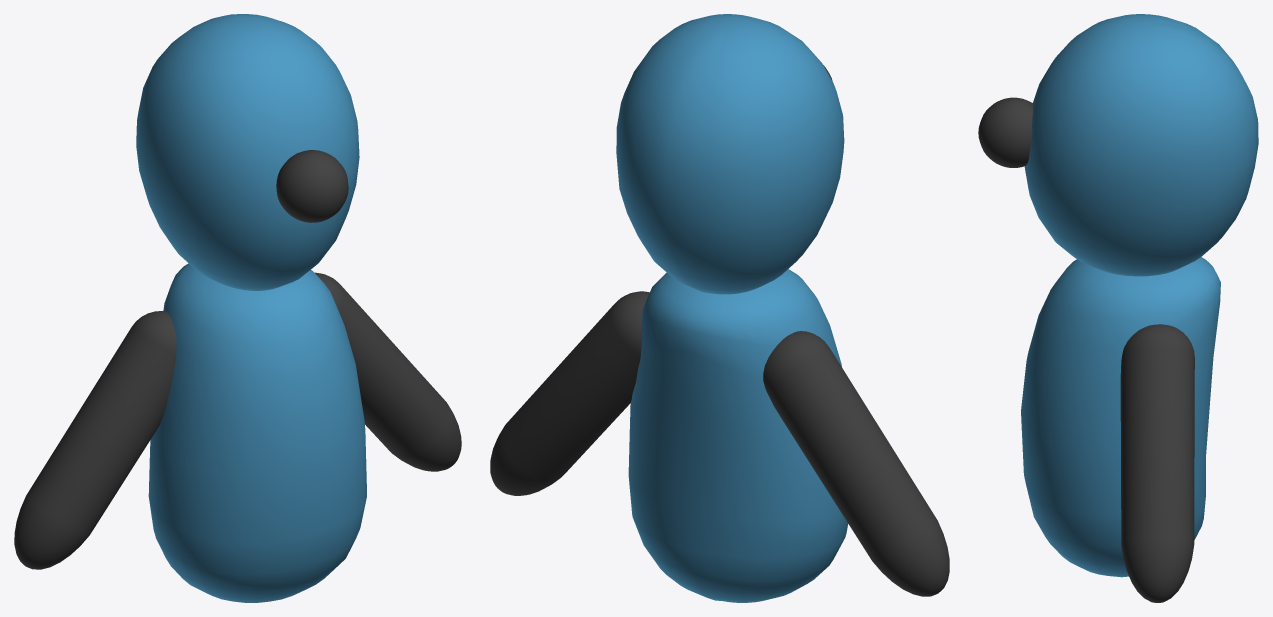
Rendered from SM_Player2BLUE.fbx.
3 renders of one model, left to right at view 1: azimuth 30°, elevation 25°; view 2: azimuth 150°, elevation 25°; view 3: azimuth 270°, elevation 25°, orthographic. The views are drawn at different scales.
Parts seen in each view (by area): view 1: SK_CharacterBase.001, Naso.001; view 2: SK_CharacterBase.001; view 3: SK_CharacterBase.001, Naso.001.
Boxes of the visible parts, left/top/right/bottom form: SK_CharacterBase.001: left=14, top=14, right=461, bottom=602; Naso.001: left=276, top=150, right=348, bottom=222; SK_CharacterBase.001: left=490, top=14, right=949, bottom=602; SK_CharacterBase.001: left=1021, top=14, right=1258, bottom=602; Naso.001: left=978, top=97, right=1032, bottom=167.
Bounding box in the file's own units: 115 × 139 × 65.52.
